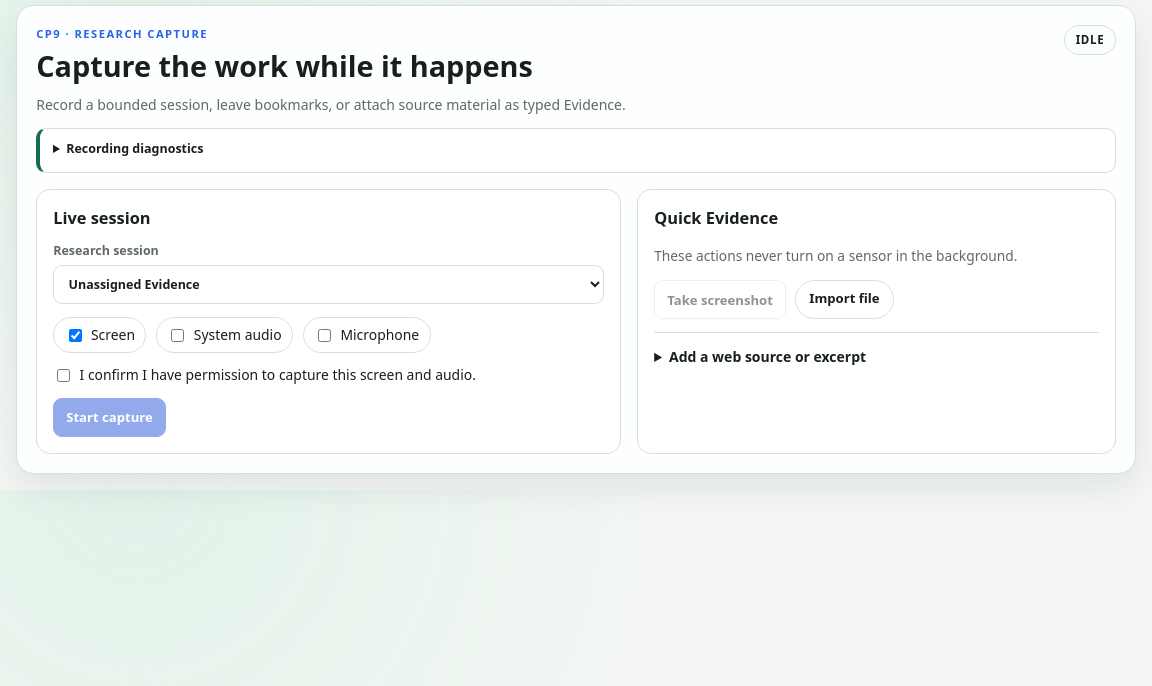
Test: CP9 capture consent boundary › uses WASAPI for Windows system audio with screen=false microphone=true and releases partial grants on failure
Click the checkbox labelled "Screen" at [75, 335], box x1=69 y1=328 x2=82 y2=342
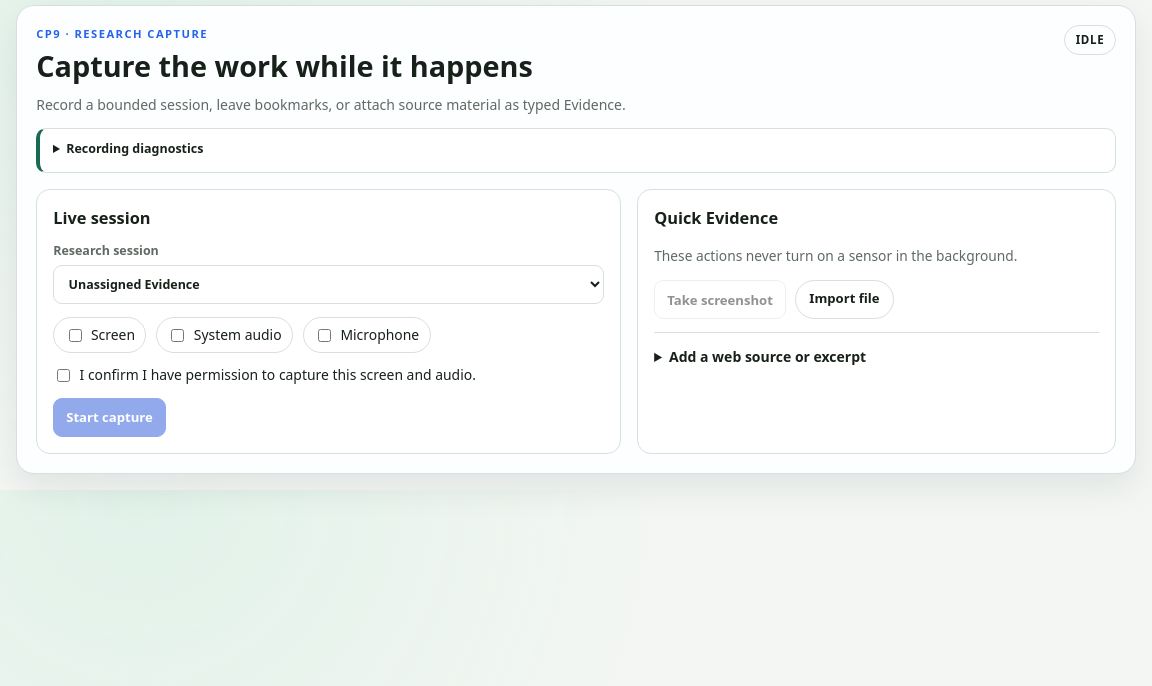
Click the checkbox labelled "System audio" at [178, 335], box x1=171 y1=328 x2=184 y2=342
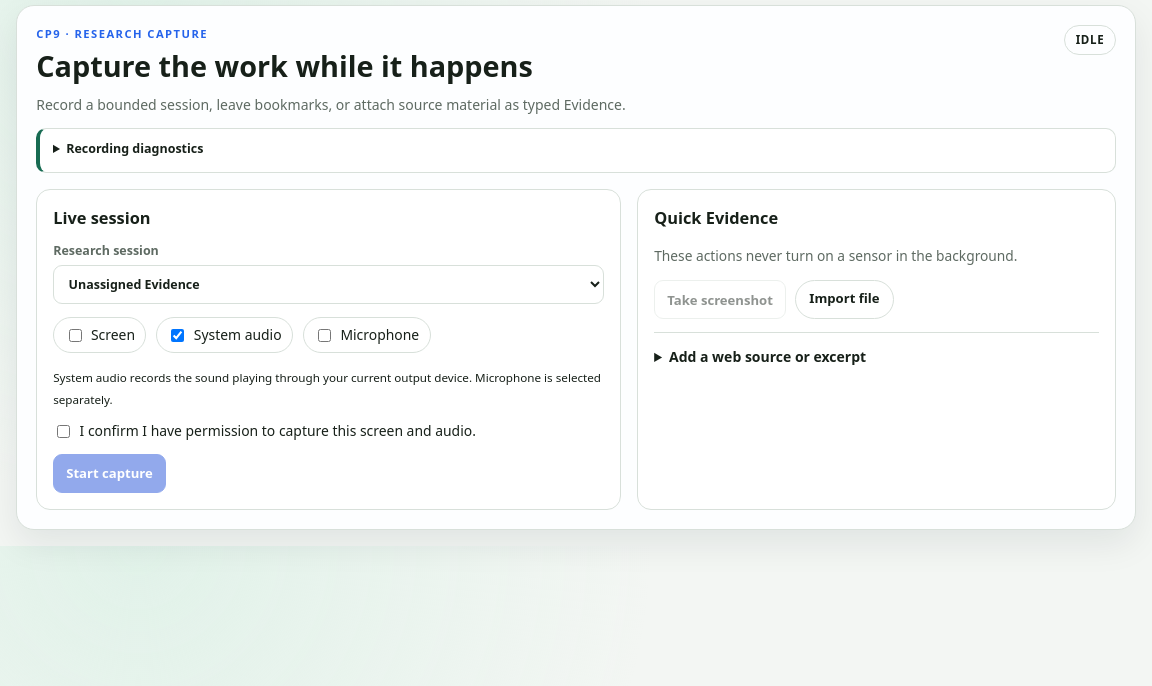
Click the checkbox labelled "Microphone" at [324, 335], box x1=318 y1=328 x2=331 y2=342
(page scrolled)
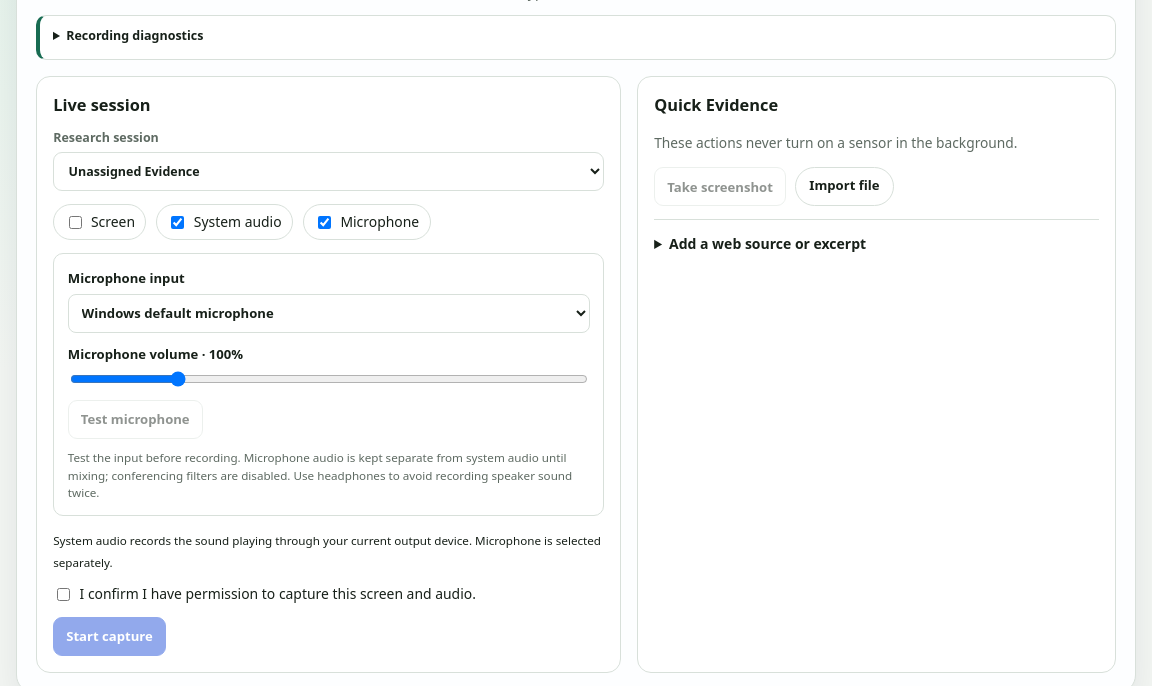
Click the checkbox labelled "I confirm I have permission to capture this screen and audio." at [64, 595], box x1=57 y1=588 x2=70 y2=601
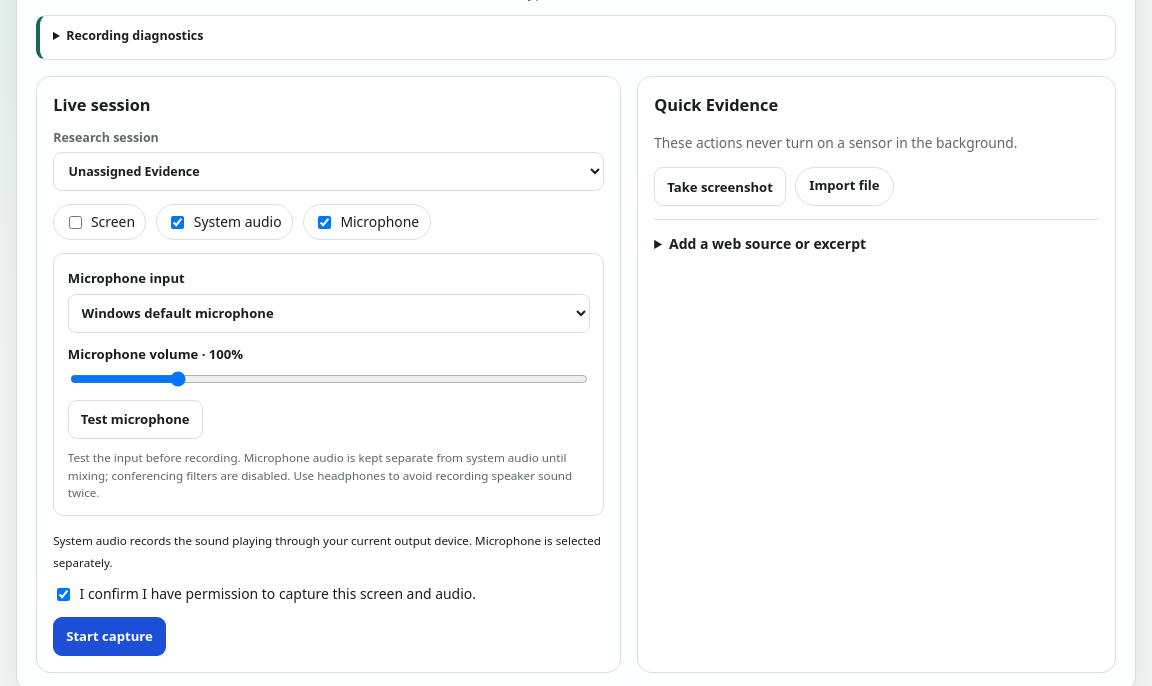
Click the button "Start capture" at [110, 637], box x1=53 y1=617 x2=166 y2=656
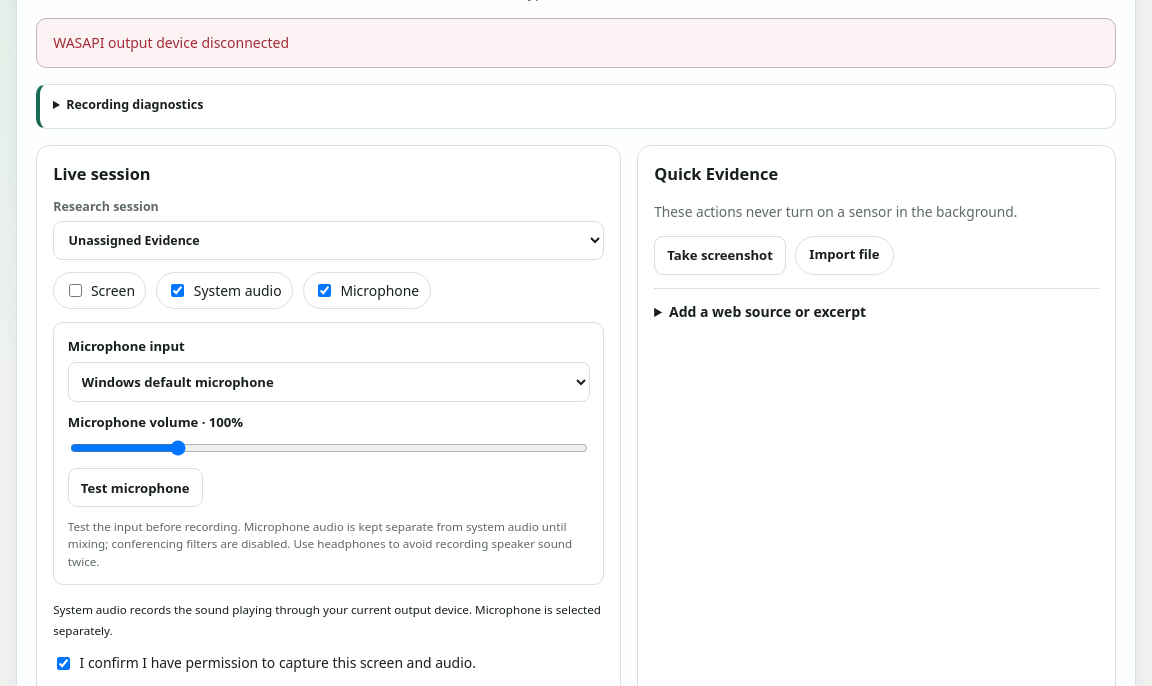
Now the text "WASAPI output device disconnected" is shown, box x1=36 y1=18 x2=1116 y2=68
